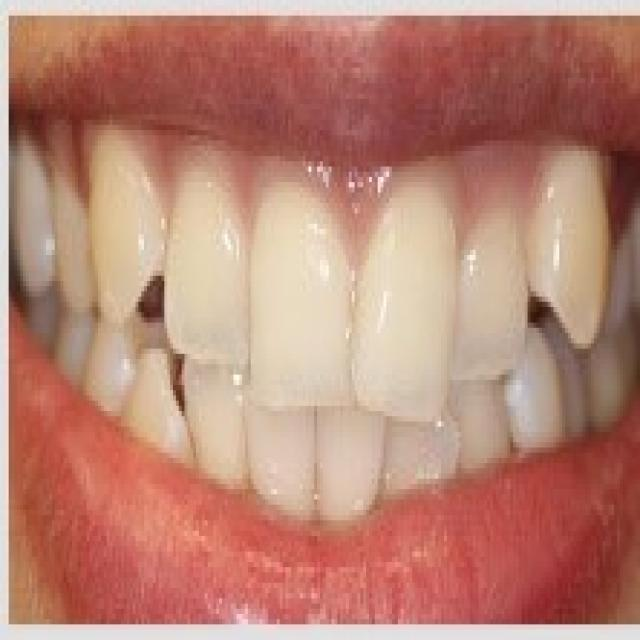tooth: (358, 162, 464, 442), (260, 156, 364, 422), (167, 166, 254, 380), (461, 156, 528, 396), (92, 140, 167, 322), (542, 151, 608, 322), (187, 338, 254, 494), (392, 411, 467, 531), (257, 406, 320, 536), (329, 406, 386, 520), (455, 401, 568, 458), (14, 135, 55, 276)
